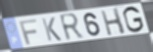6: (83, 12, 102, 38)
F: (18, 18, 39, 46)
G: (122, 6, 146, 34)
H: (99, 7, 127, 37)
K: (41, 17, 63, 43)
R: (58, 12, 86, 43)
